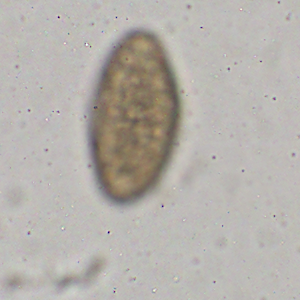Fasciola_hepatica_egg: (88, 26, 180, 205)
